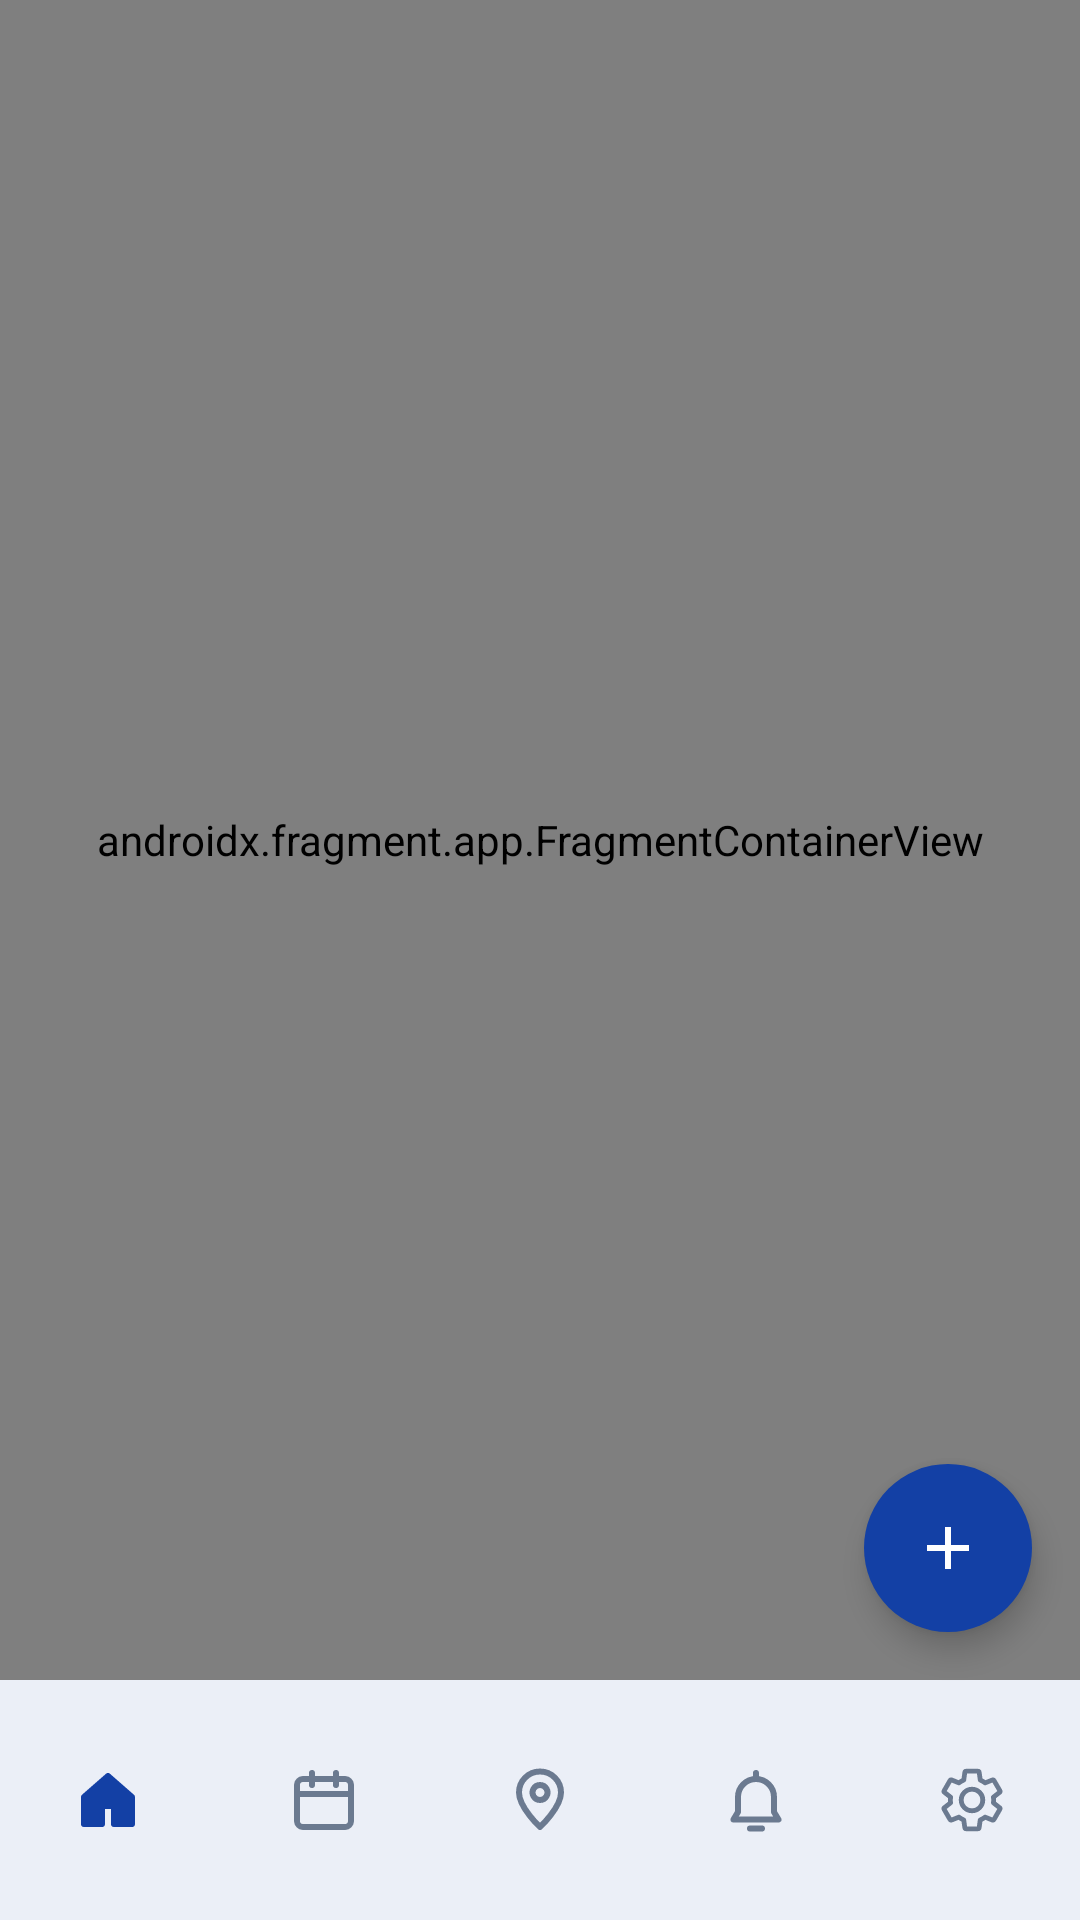

Locate icon controls on the screen. Image size 1080×1920, boxes as detection(x1, y1, x2, y2).
Quick actions: detection(864, 1464, 1032, 1632)
